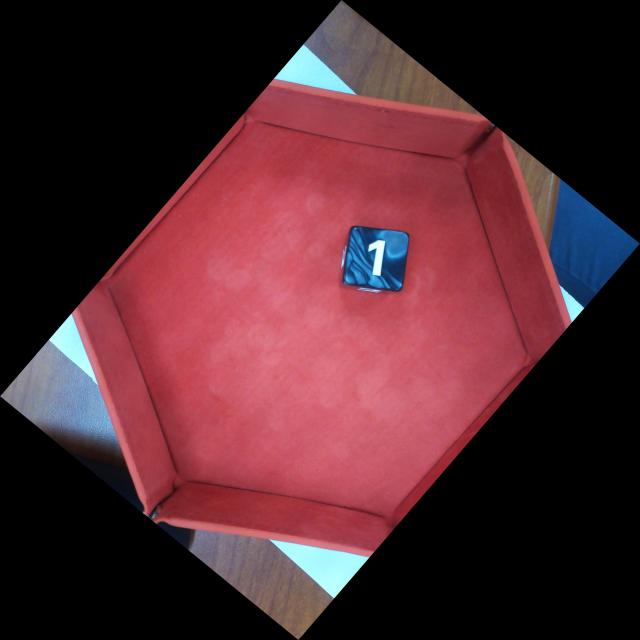dice: (347, 225, 411, 287)
